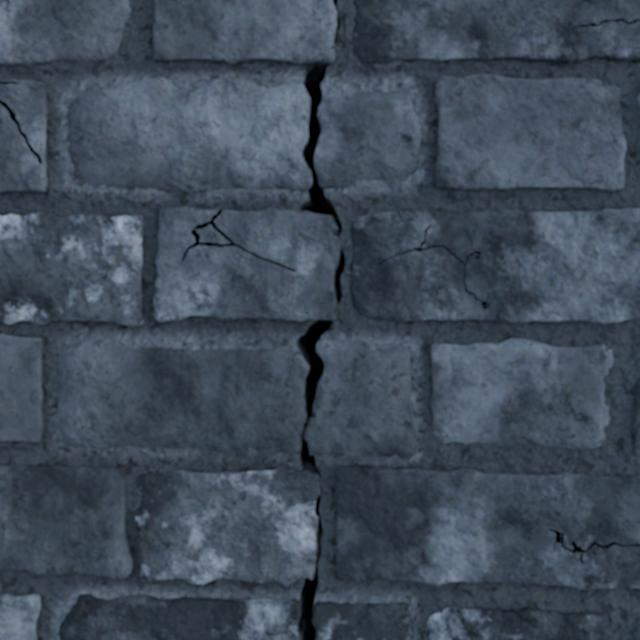broken_brick: (56, 340, 416, 458), (68, 77, 311, 191), (59, 594, 300, 639), (314, 90, 421, 188), (313, 601, 408, 639)
crack: (153, 0, 344, 427), (134, 436, 322, 639), (335, 465, 639, 589), (350, 208, 639, 323), (434, 74, 626, 191), (430, 338, 613, 449), (352, 0, 639, 63), (0, 211, 144, 327), (0, 465, 133, 578), (0, 0, 130, 66), (422, 607, 610, 639), (0, 80, 47, 193), (0, 333, 43, 442), (0, 593, 40, 639), (631, 378, 639, 455), (633, 621, 639, 639), (637, 93, 639, 107), (338, 603, 355, 604)
